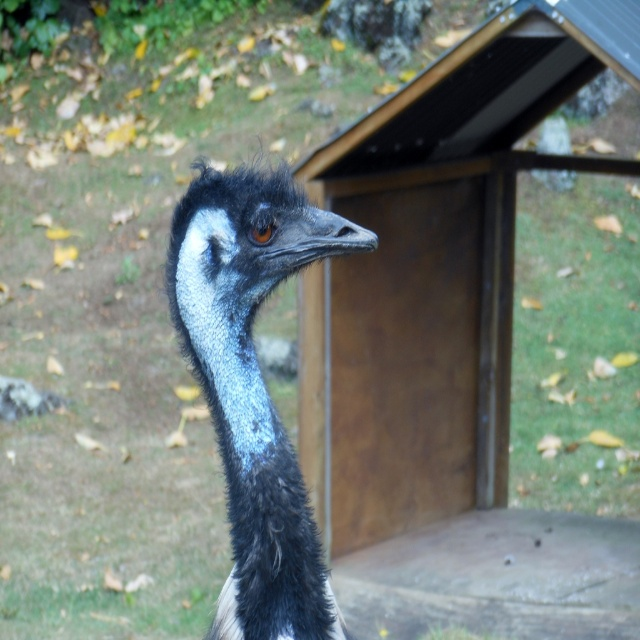Ostrich: (155, 128, 379, 640)
